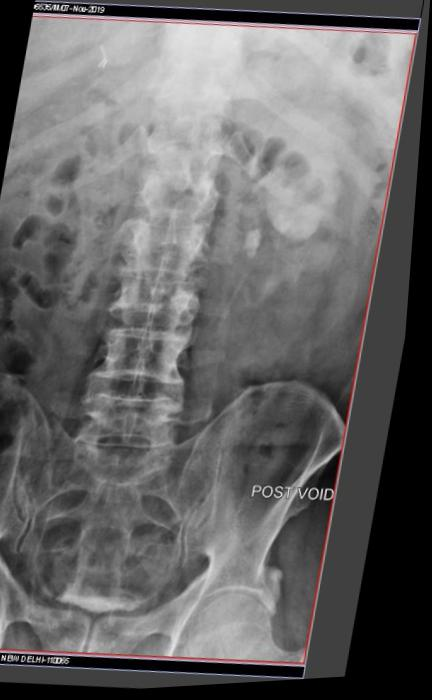bladder: (77, 608, 193, 670)
vertebrae: (160, 161, 243, 221)
